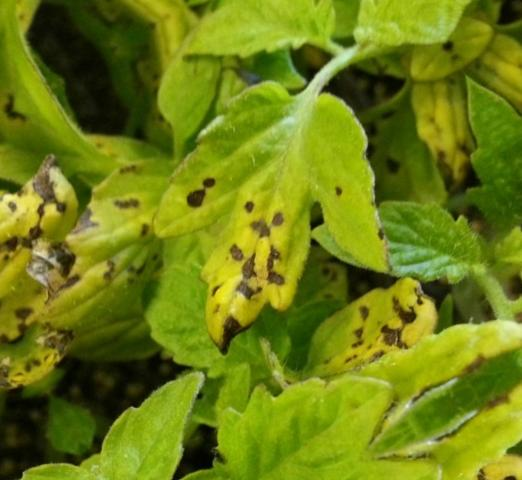Tomato leaf: (162, 0, 365, 112)
Tomato leaf bacterial spot: (106, 36, 448, 366), (261, 249, 467, 418)
